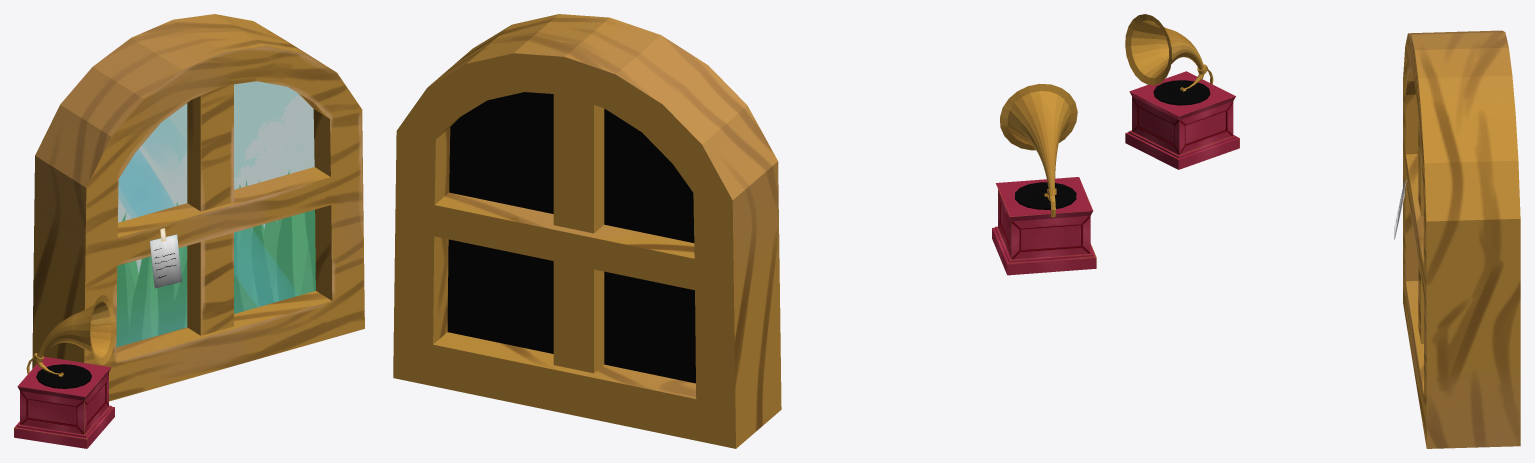
File: Banyak OBJ.FBX
The picture shows the model from 3 angles, left to right: view 1: azimuth 30°, elevation 25°; view 2: azimuth 150°, elevation 25°; view 3: azimuth 270°, elevation 25°; orthographic projection. The views are drawn at different scales.
Visible parts, largest first — view 1: kaca, Kacajendela, grampphone, Tuba, Letter; view 2: kaca, Kacajendela, grampphone, Tuba; view 3: kaca, grampphone, Tuba.
Boxes of the visible parts, x1,y1,x2,y2 form: kaca: [32, 14, 364, 401]; Kacajendela: [116, 81, 315, 347]; grampphone: [14, 356, 114, 448]; Tuba: [26, 295, 115, 374]; Letter: [149, 228, 181, 288]; kaca: [393, 14, 781, 448]; Kacajendela: [447, 92, 695, 383]; grampphone: [992, 177, 1096, 275]; Tuba: [1000, 84, 1077, 217]; kaca: [1403, 30, 1520, 448]; grampphone: [1125, 71, 1239, 169]; Tuba: [1125, 14, 1213, 89].
Bounding box in the file's own units: 716 × 511 × 463.
Materials: 6 (6 with a texture image).
